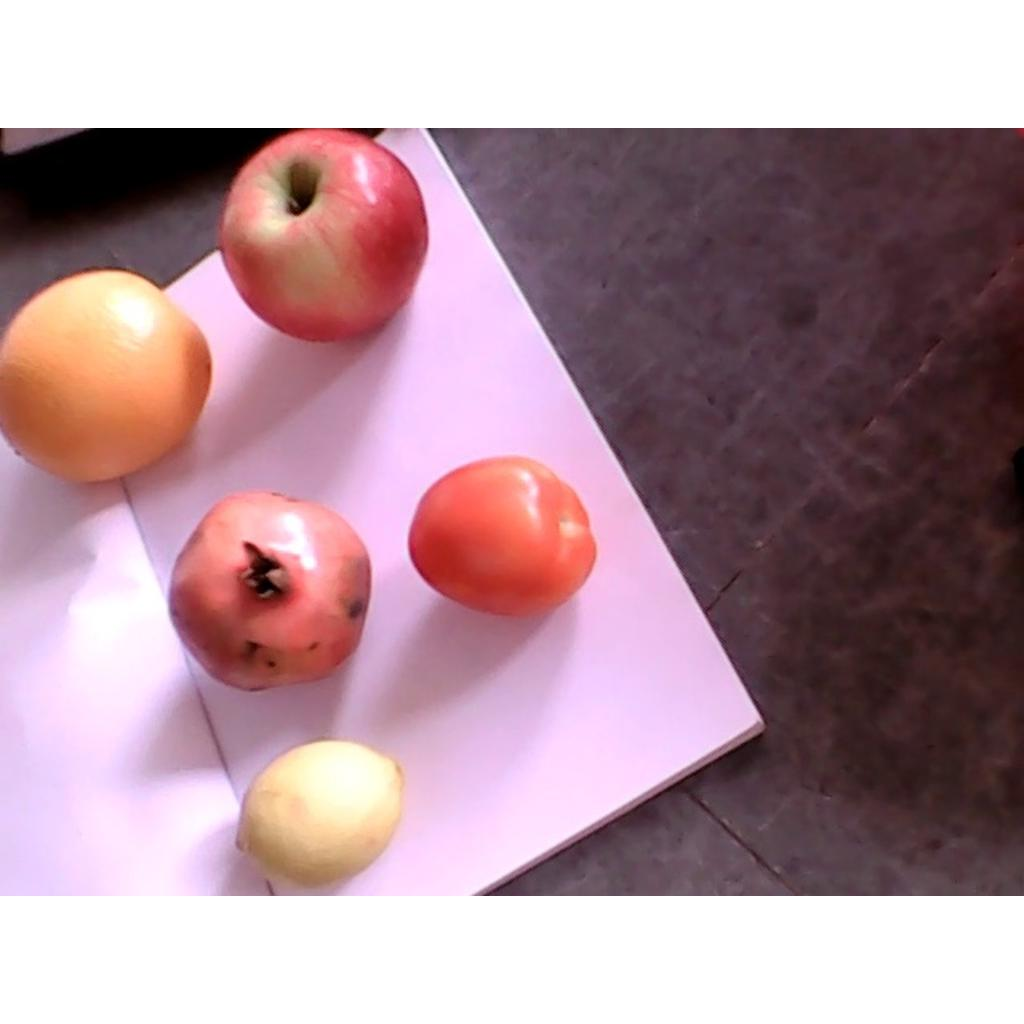apple: (221, 128, 429, 342)
lemon: (235, 739, 405, 883)
orange: (0, 269, 210, 483)
pomegranate: (168, 492, 370, 692)
tomato: (408, 456, 597, 614)
